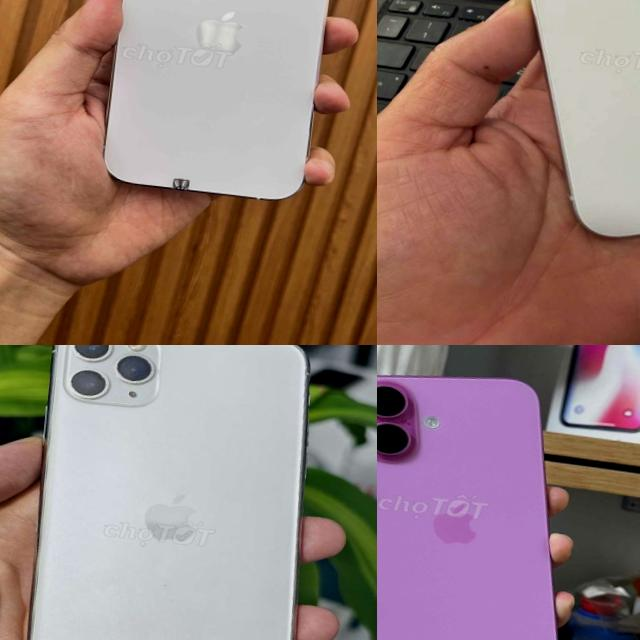gen_11: (7, 345, 339, 640)
gen_14: (89, 0, 348, 219)
gen_15: (441, 0, 640, 258)
gen_16: (377, 354, 595, 640)
